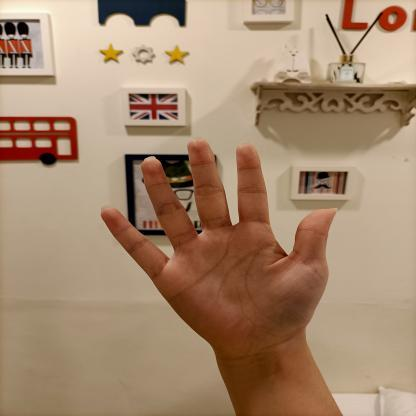bare_hand: (89, 131, 348, 353)
